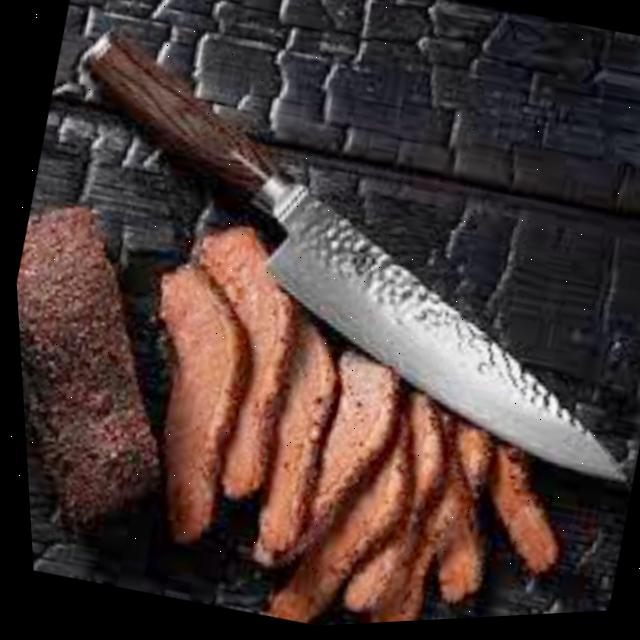knife: (1, 0, 640, 515)
